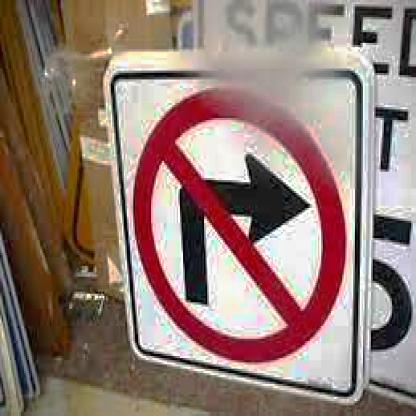No right turn: (128, 85, 343, 361)
